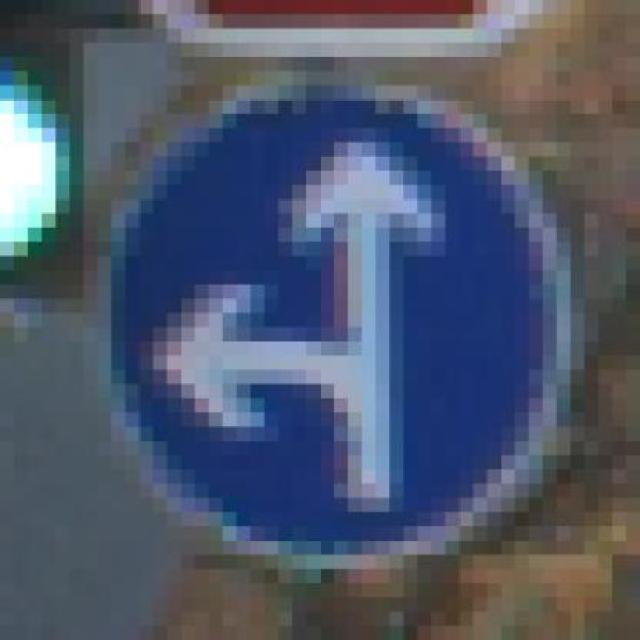Go straight or turn left: (70, 85, 612, 598)
